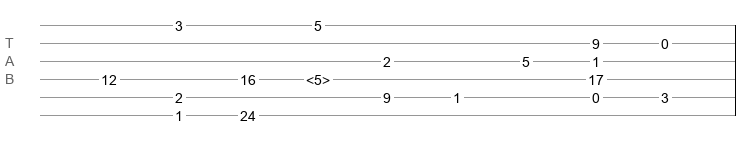0: (592, 90, 600, 100), (661, 36, 669, 46)
1: (175, 108, 183, 118), (453, 90, 461, 100), (592, 54, 600, 64)
12: (101, 72, 117, 82)
16: (240, 72, 256, 82)
17: (588, 72, 604, 82)
2: (175, 90, 183, 100), (383, 54, 391, 64)
24: (240, 108, 256, 118)
3: (175, 18, 183, 28), (661, 90, 669, 100)
5: (314, 18, 322, 28), (522, 54, 530, 64)
9: (383, 90, 391, 100), (592, 36, 600, 46)
harmonic: (306, 72, 330, 82)
